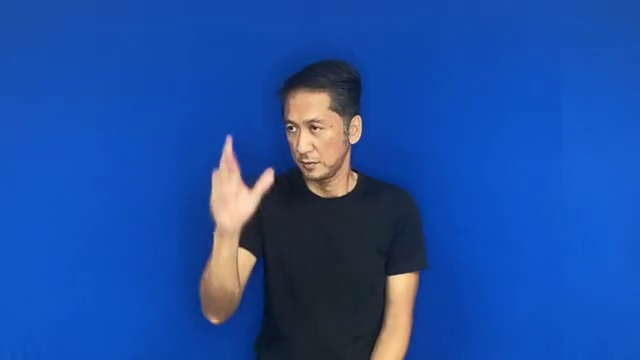chicken: (187, 126, 287, 232)
